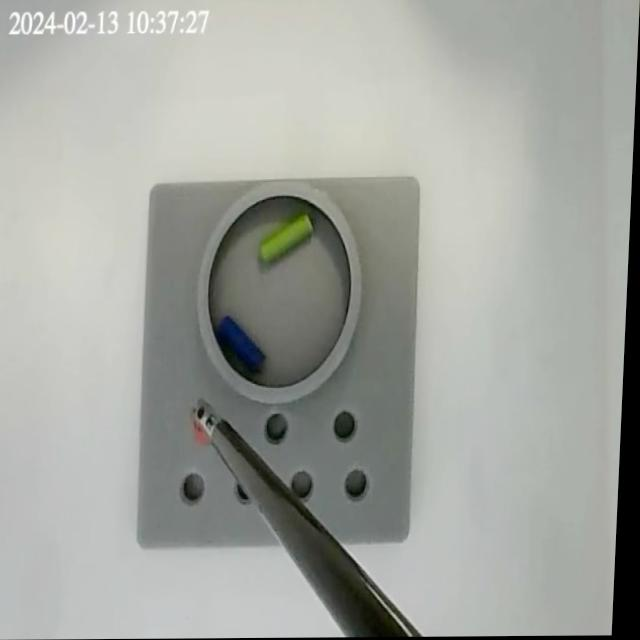EmptyHole: (289, 467, 324, 505), (264, 409, 296, 448), (346, 464, 376, 503), (239, 469, 270, 506), (334, 408, 363, 443), (185, 470, 211, 506)
FilledHole: (193, 401, 221, 442)
